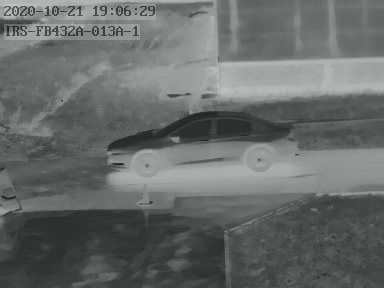vehicle: (95, 109, 303, 178)
